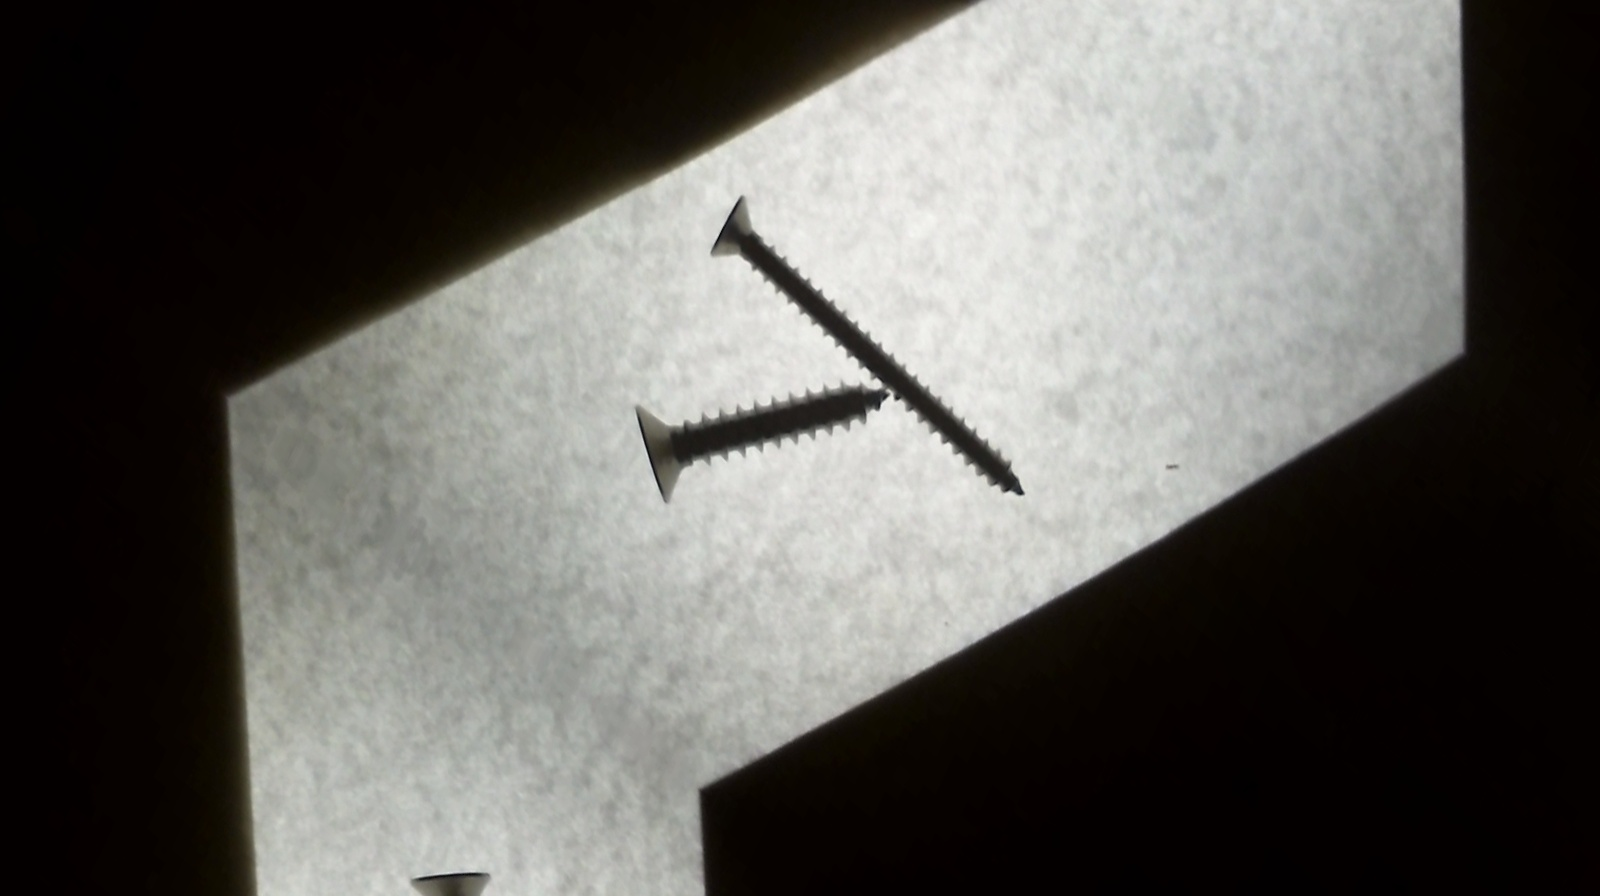S001: (604, 236, 896, 616)
S002: (691, 178, 1051, 511)
